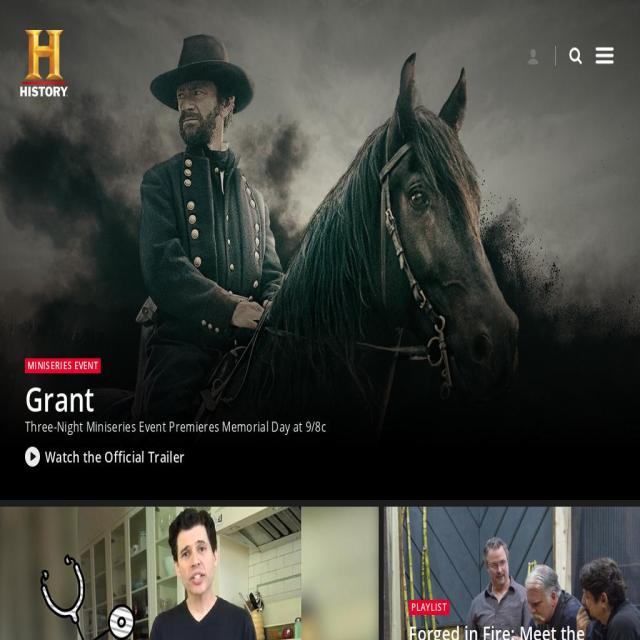button: (20, 13, 108, 97), (25, 446, 185, 466)
heading: (25, 380, 326, 418), (20, 30, 108, 97), (409, 621, 630, 640)
text: (0, 0, 640, 500), (0, 506, 379, 640), (384, 506, 640, 640), (25, 420, 326, 433), (25, 358, 101, 374), (409, 600, 449, 615)
